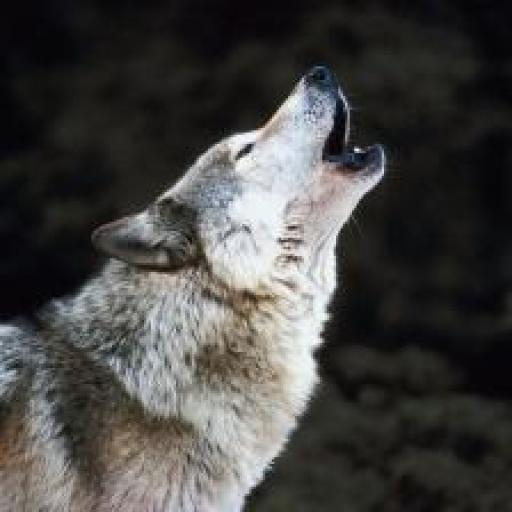wolf: (0, 55, 400, 512)
